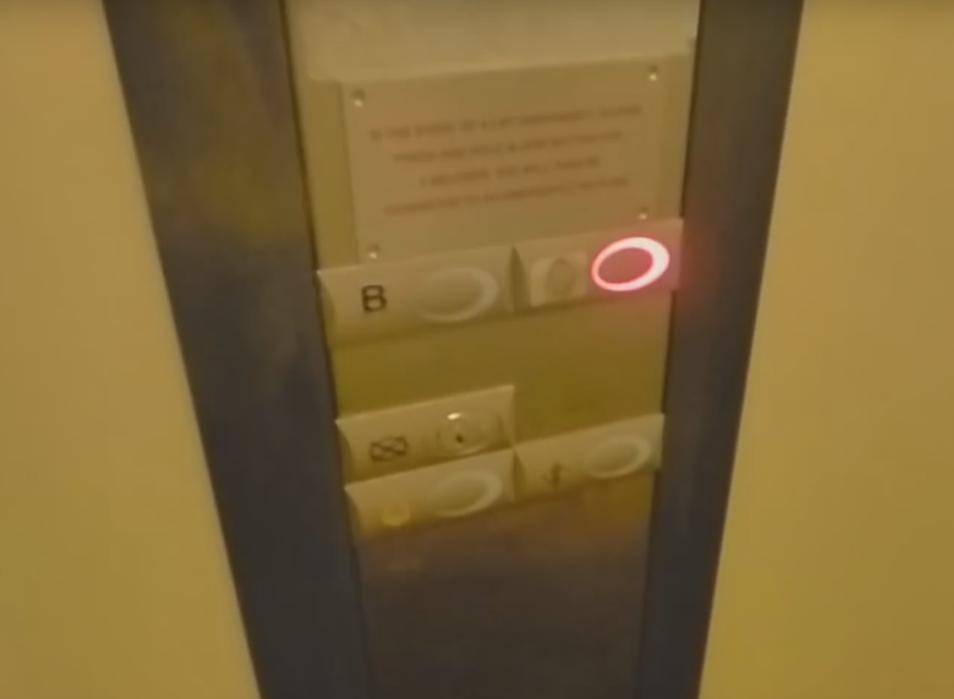B: (311, 236, 518, 342)
blur: (515, 211, 692, 316), (344, 454, 520, 541), (513, 411, 670, 503)
stop: (332, 379, 520, 473)
